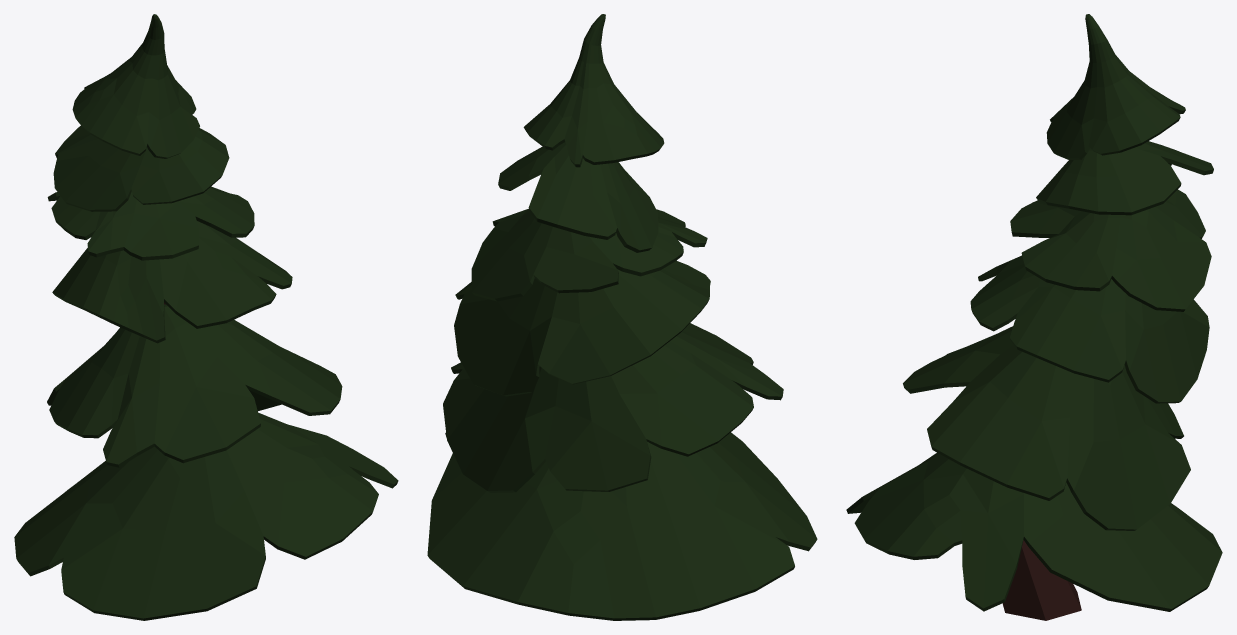
Rendered from pinetree_3.glb.
The picture shows the model from 3 angles, left to right: view 1: azimuth 30°, elevation 25°; view 2: azimuth 150°, elevation 25°; view 3: azimuth 270°, elevation 25°; orthographic projection. The views are drawn at different scales.
Parts seen in each view (by area): view 1: PineTree_3; view 2: PineTree_3; view 3: PineTree_3.
Boxes of the visible parts, left/top/right/bottom form: PineTree_3: left=14, top=14, right=398, bottom=620; PineTree_3: left=427, top=14, right=817, bottom=620; PineTree_3: left=846, top=14, right=1222, bottom=620.
Bounding box in the file's own units: 216 × 330 × 195.
